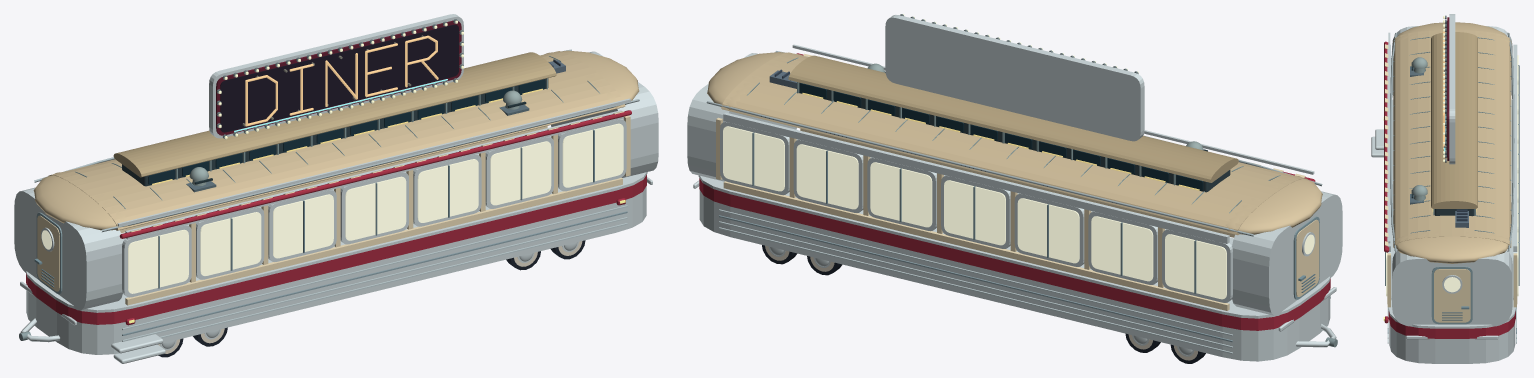
Rendered from car-map.glb.
The picture shows the model from 3 angles, left to right: view 1: azimuth 30°, elevation 25°; view 2: azimuth 150°, elevation 25°; view 3: azimuth 270°, elevation 25°; orthographic projection. The views are drawn at different scales.
Parts seen in each view (by area): view 1: car-body; view 2: car-body; view 3: car-body.
Part boxes in pixels (x1,y1,x2,y2): car-body: (14,14,658,363); car-body: (687,14,1342,361); car-body: (1371,14,1519,363).
Bounding box in the file's own units: 12.99 × 4.91 × 3.3.
